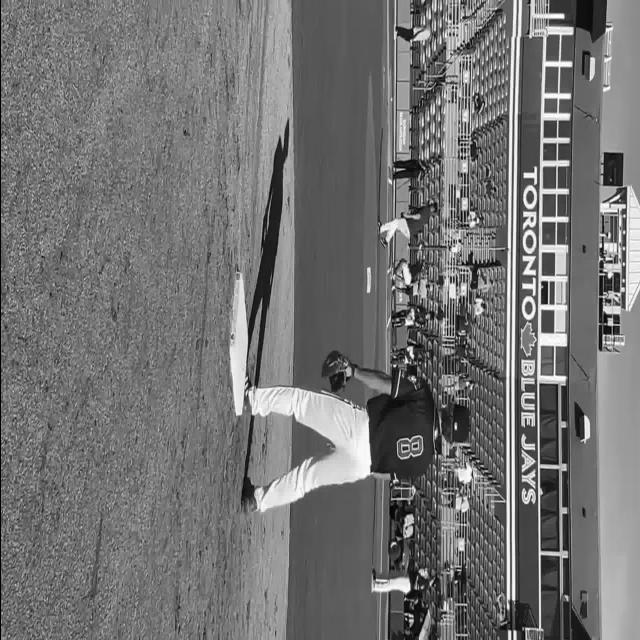base: (229, 271, 248, 416)
baseball_glove: (321, 351, 349, 393)
shoe: (240, 478, 256, 516), (241, 376, 251, 416)
